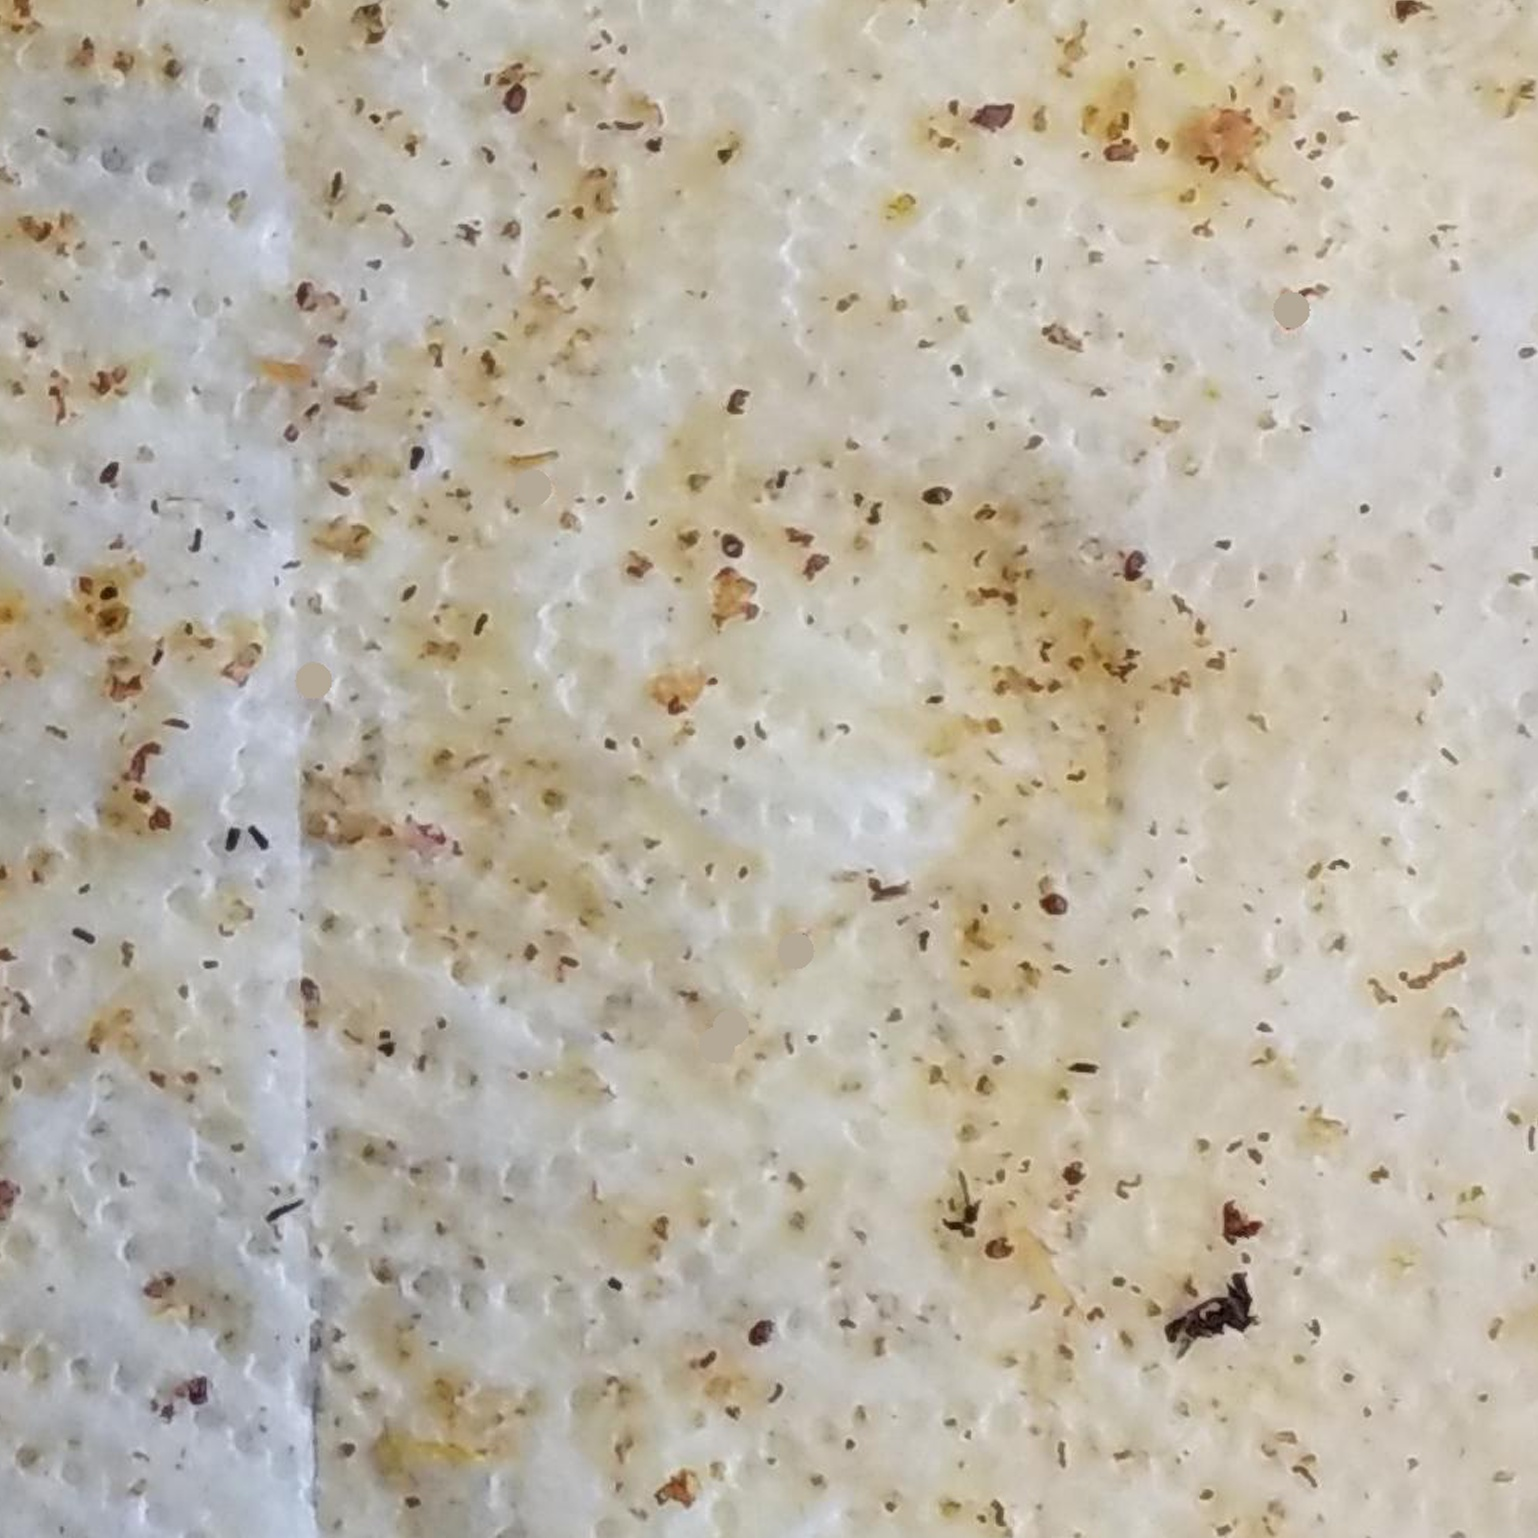Varroa: (289, 270, 323, 306), (986, 1232, 1015, 1263), (1037, 887, 1065, 918), (746, 1318, 775, 1349), (501, 82, 530, 113), (925, 484, 955, 513), (90, 462, 117, 490), (1118, 554, 1144, 582)
